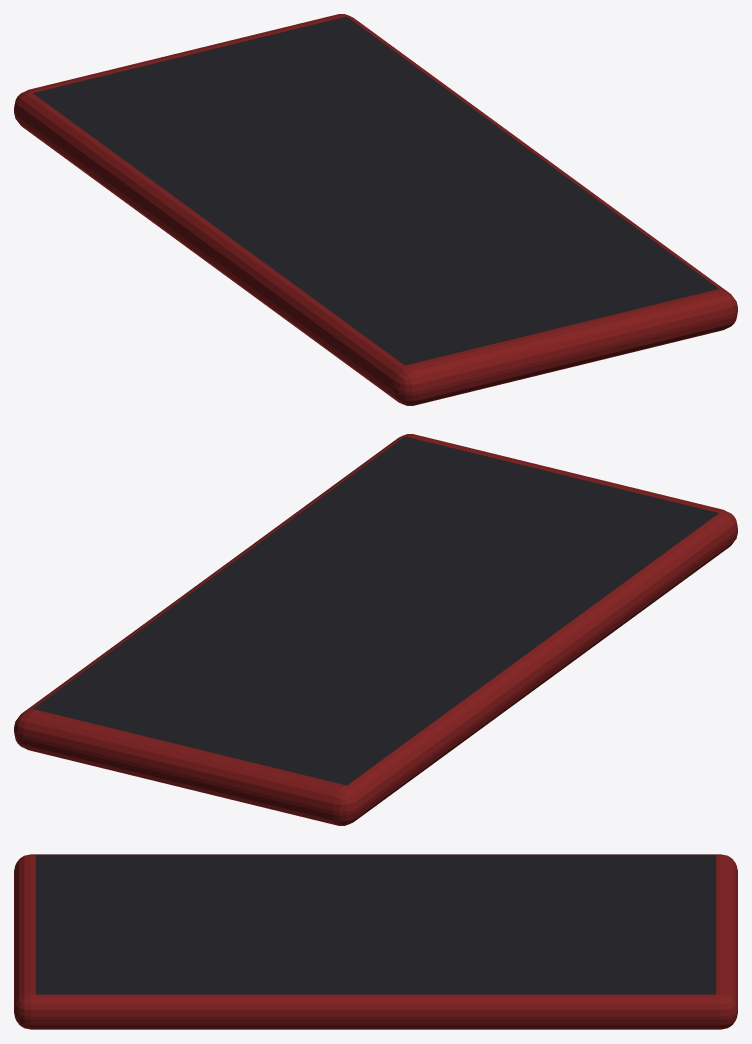
Rendered from poco-gen-2024-mid-range-2024.glb.
The picture shows the model from 3 angles, top to bottom: view 1: azimuth 30°, elevation 25°; view 2: azimuth 150°, elevation 25°; view 3: azimuth 270°, elevation 25°; orthographic projection. The views are drawn at different scales.
Parts seen in each view (by area): view 1: Phone_Screen, Phone_Body; view 2: Phone_Screen, Phone_Body; view 3: Phone_Screen, Phone_Body.
Part boxes in pixels (bbox=[...]): Phone_Screen: bbox=[33, 16, 718, 365]; Phone_Body: bbox=[14, 14, 737, 405]; Phone_Screen: bbox=[33, 436, 718, 785]; Phone_Body: bbox=[14, 434, 737, 825]; Phone_Screen: bbox=[35, 854, 716, 994]; Phone_Body: bbox=[14, 854, 737, 1029].
Bounding box in the file's own units: 0.0772 × 0.0081 × 0.155.
